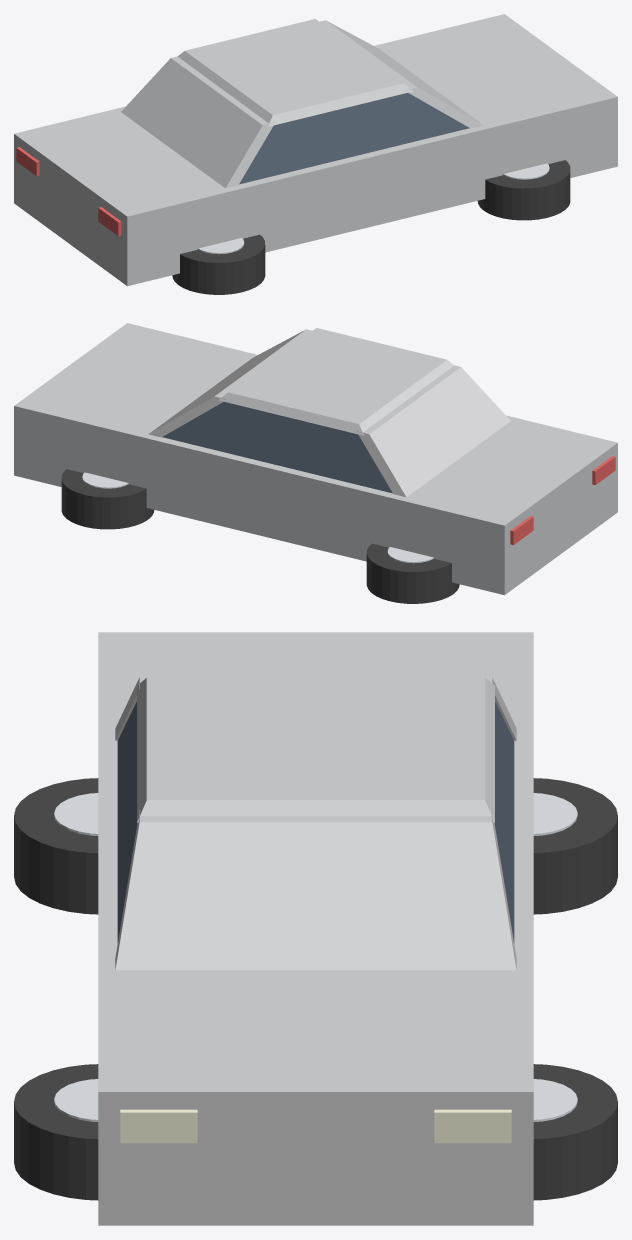
File: toyota_corolla.glb
The picture shows the model from 3 angles, top to bottom: view 1: azimuth 30°, elevation 25°; view 2: azimuth 150°, elevation 25°; view 3: azimuth 270°, elevation 25°; orthographic projection. The views are drawn at different scales.
Visible parts, largest first — view 1: geometry_0, geometry_2, geometry_4, geometry_1, geometry_5, geometry_9, geometry_3, geometry_6, geometry_10, geometry_16, geometry_14; view 2: geometry_0, geometry_2, geometry_4, geometry_1, geometry_7, geometry_11, geometry_3, geometry_8, geometry_12, geometry_14, geometry_16; view 3: geometry_0, geometry_3, geometry_2, geometry_9, geometry_11, geometry_5, geometry_7, geometry_1, geometry_13, geometry_15, geometry_6, geometry_8 (+3 smaller).
Part boxes in pixels (x1,y1,x2,y2): geometry_0: [14, 14, 617, 286]; geometry_2: [177, 19, 413, 126]; geometry_4: [121, 56, 275, 188]; geometry_1: [239, 93, 469, 184]; geometry_5: [477, 160, 570, 220]; geometry_9: [172, 234, 265, 294]; geometry_3: [320, 20, 483, 128]; geometry_6: [503, 163, 549, 179]; geometry_10: [198, 238, 244, 254]; geometry_16: [16, 147, 39, 176]; geometry_14: [98, 207, 121, 235]; geometry_0: [14, 323, 617, 595]; geometry_2: [218, 328, 454, 435]; geometry_4: [356, 365, 510, 497]; geometry_1: [162, 402, 392, 493]; geometry_7: [61, 469, 154, 529]; geometry_11: [366, 543, 459, 603]; geometry_3: [148, 329, 311, 437]; geometry_8: [82, 472, 128, 488]; geometry_12: [387, 547, 433, 563]; geometry_14: [592, 456, 615, 485]; geometry_16: [510, 516, 533, 544]; geometry_0: [98, 632, 533, 1225]; geometry_3: [115, 810, 516, 970]; geometry_2: [137, 677, 494, 822]; geometry_9: [14, 778, 98, 914]; geometry_11: [533, 778, 617, 914]; geometry_5: [14, 1064, 98, 1200]; geometry_7: [533, 1064, 617, 1200]; geometry_1: [117, 701, 514, 942]; geometry_13: [120, 1109, 197, 1143]; geometry_15: [434, 1109, 511, 1143]; geometry_6: [54, 1079, 98, 1121]; geometry_8: [533, 1079, 577, 1121].
Bounding box in the file's own units: 4.56 × 1.2 × 2.5.
